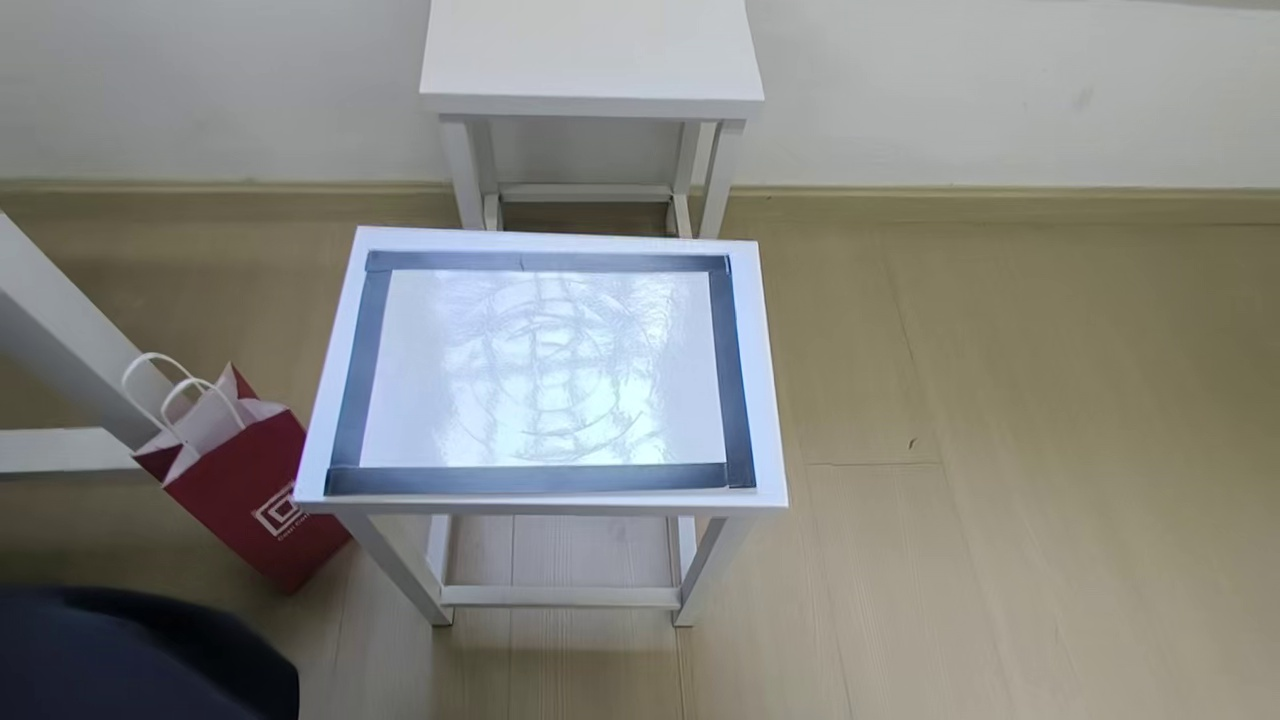board: (324, 249, 754, 493)
